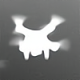plane: (7, 12, 72, 60)
